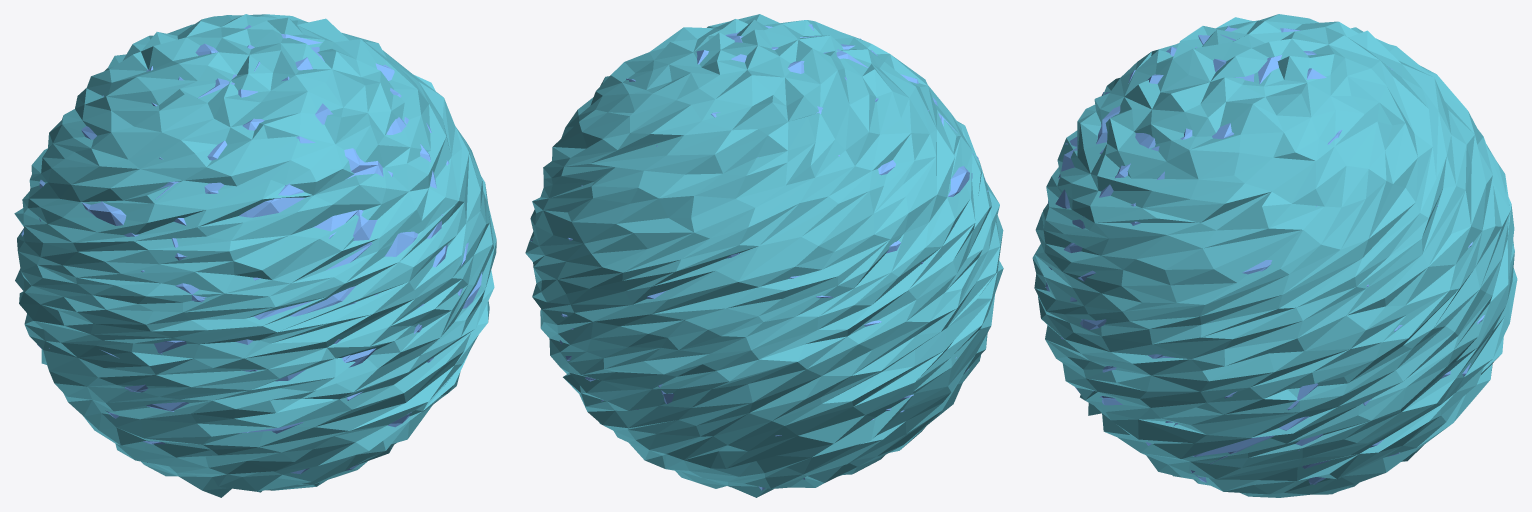
Rendered from uranus.gltf.
3 renders of one model, left to right at view 1: azimuth 30°, elevation 25°; view 2: azimuth 150°, elevation 25°; view 3: azimuth 270°, elevation 25°, orthographic.
Parts seen in each view (by area): view 1: Uranus_Null_Sphere_212_2, Uranus_Null_Sphere_212; view 2: Uranus_Null_Sphere_212_2, Uranus_Null_Sphere_212; view 3: Uranus_Null_Sphere_212_2, Uranus_Null_Sphere_212.
Part boxes in pixels (bbox=[...]): Uranus_Null_Sphere_212_2: bbox=[14, 14, 496, 497]; Uranus_Null_Sphere_212: bbox=[21, 25, 482, 474]; Uranus_Null_Sphere_212_2: bbox=[525, 14, 1003, 497]; Uranus_Null_Sphere_212: bbox=[530, 24, 988, 490]; Uranus_Null_Sphere_212_2: bbox=[1032, 14, 1517, 497]; Uranus_Null_Sphere_212: bbox=[1045, 25, 1484, 484].
Bounding box in the file's own units: 0.0354 × 0.0355 × 0.0353.
